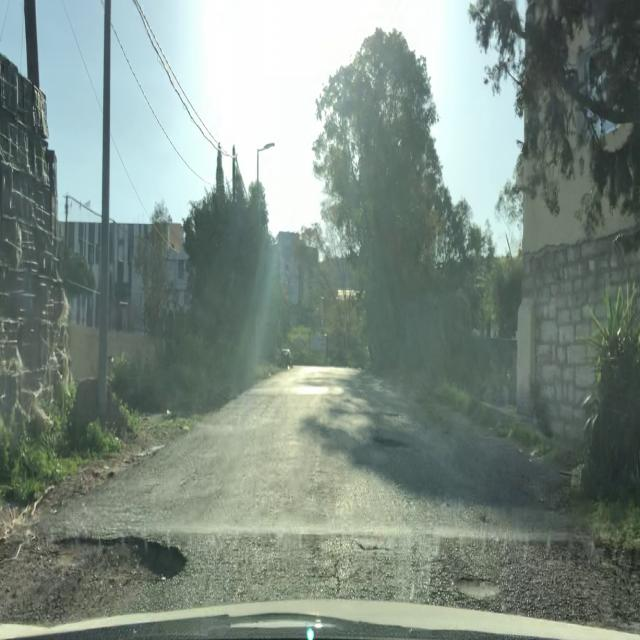Pothole: (46, 529, 194, 588), (370, 429, 412, 456)
